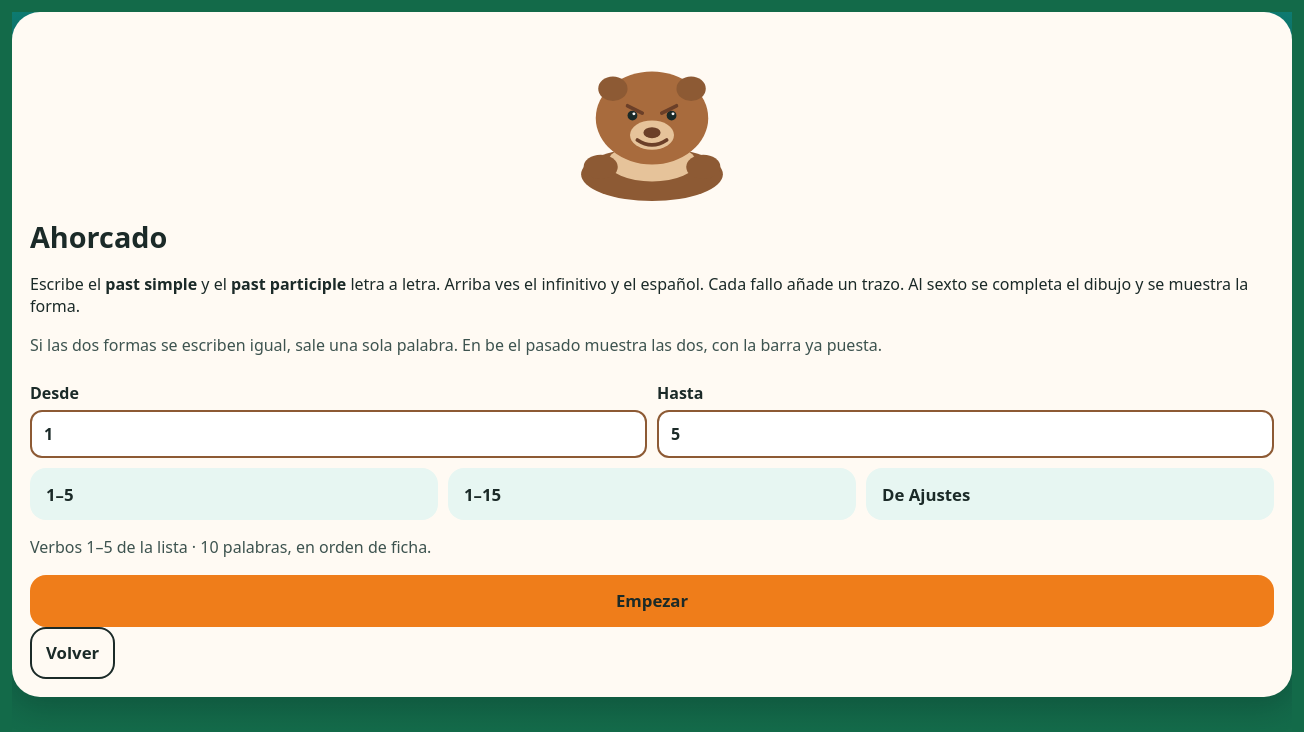
Test case: teclado del ahorcado › ofrece las 26 letras y anuncia los fallos
Click the button "Empezar". click: (652, 601)
box: x1=30 y1=575 x2=1274 y2=627
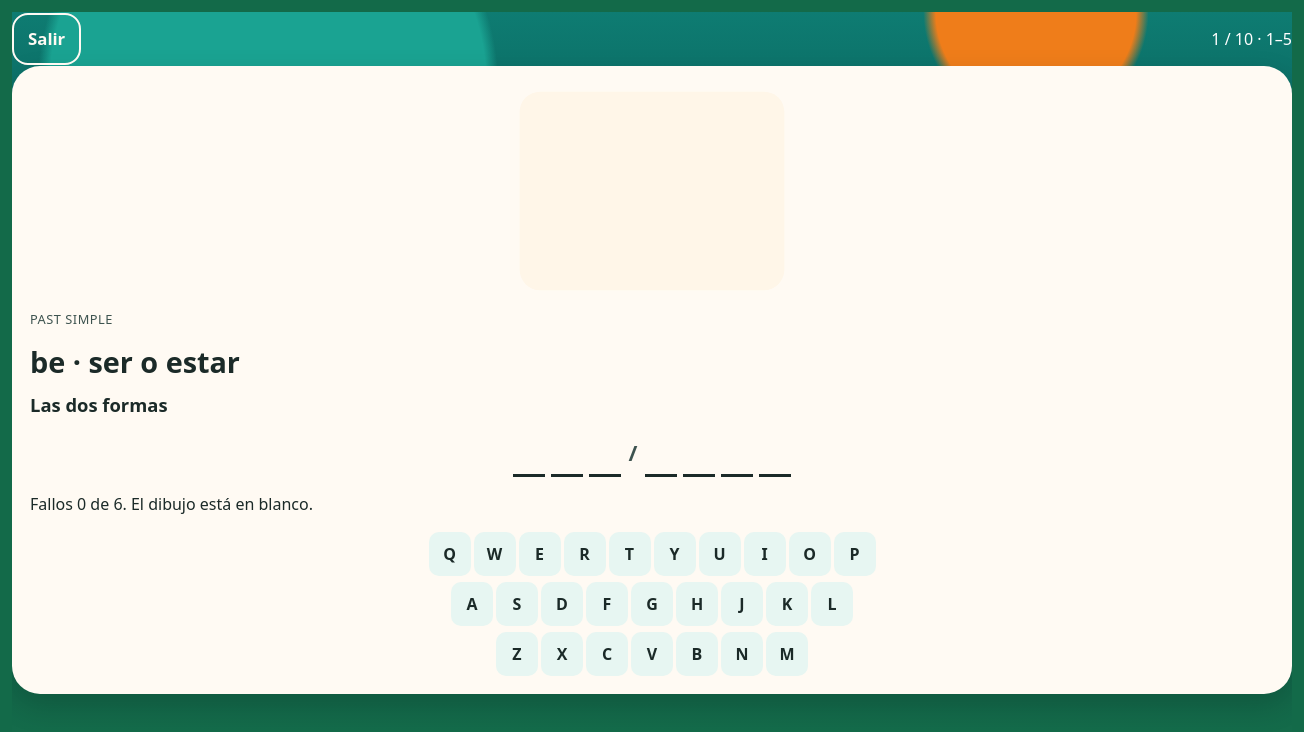
Result: the number of buttons named "Letra " is 26
Click the button named "Letra Q". click: (450, 554)
box: x1=428 y1=532 x2=470 y2=576
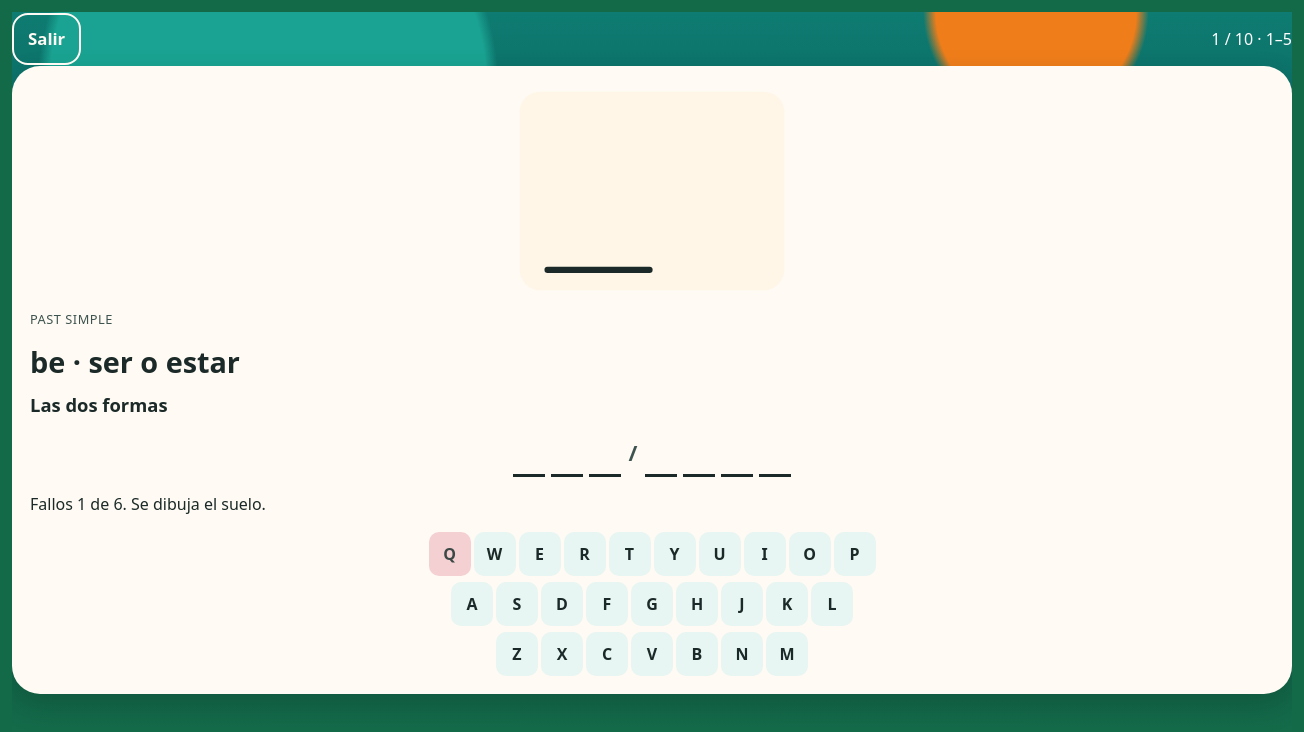
Result: the text "Fallos 1 de 6. Se dibuja el suelo." is shown at x1=30 y1=493 x2=266 y2=515
Result: the button named "Letra Q" is disabled at x1=428 y1=532 x2=470 y2=576
